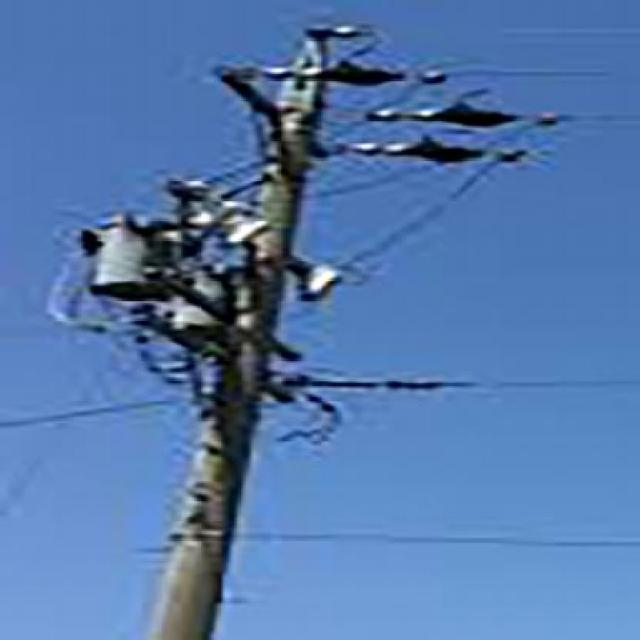pole: (75, 15, 419, 640)
